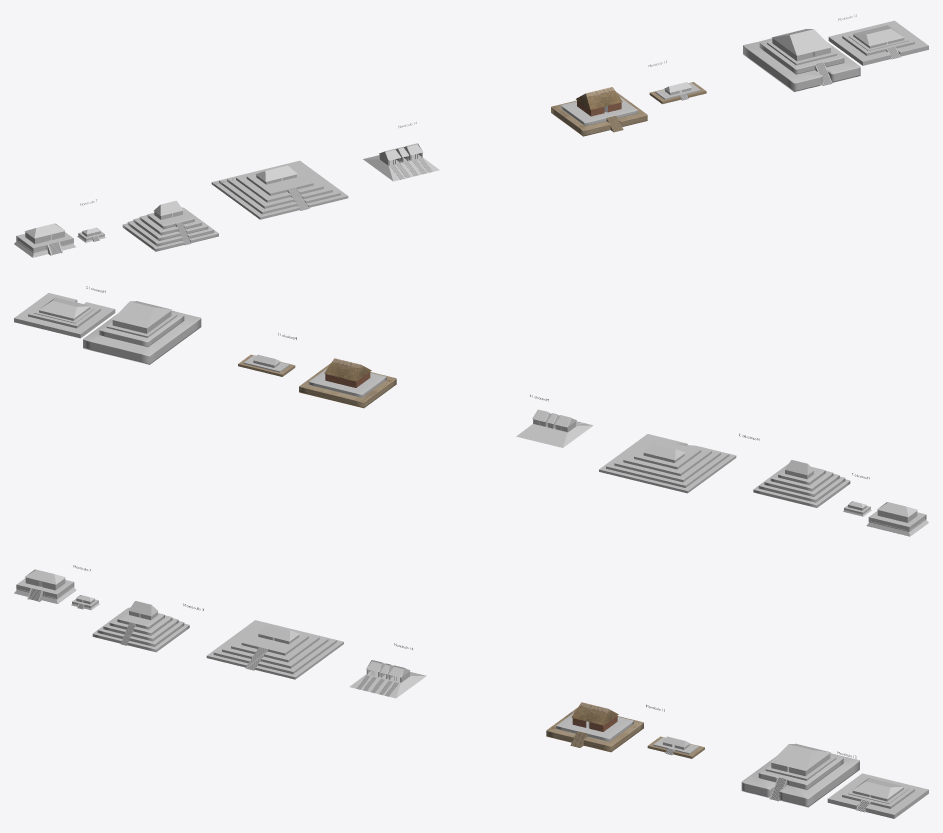
File: Monticulo13.obj
3 views of the same model, one above another, from view 1: azimuth 30°, elevation 25°; view 2: azimuth 150°, elevation 25°; view 3: azimuth 330°, elevation 25° (orthographic).
Visible parts, largest first — view 1: Plane.023, Cube, Templo_1_y_2, Cube.003, Rancho_techo.001, Cube.002, Cube.001, Cube.022, Plane.005, Rancho_techo, Cube.025, Cube.026 (+1 smaller); view 2: Plane.023, Cube, Templo_1_y_2, Cube.003, Cube.022, Rancho_techo.001, Cube.001, Cube.002, Plane.005, Rancho_techo, Cube.025, Cube.026 (+1 smaller); view 3: Plane.023, Cube, Templo_1_y_2, Cube.003, Rancho_techo.001, Cube.002, Cube.001, Cube.022, Plane.005, Rancho_techo, Cube.025, Cube.026.
Part boxes in pixels (x1=…): Plane.023: x1=211, y1=160, x2=348, y2=219; Cube: x1=743, y1=38, x2=860, y2=92; Templo_1_y_2: x1=828, y1=20, x2=928, y2=65; Cube.003: x1=551, y1=92, x2=647, y2=136; Rancho_techo.001: x1=772, y1=29, x2=831, y2=55; Cube.002: x1=560, y1=97, x2=637, y2=125; Cube.001: x1=759, y1=40, x2=844, y2=74; Cube.022: x1=363, y1=154, x2=439, y2=181; Plane.005: x1=576, y1=87, x2=622, y2=109; Rancho_techo: x1=852, y1=25, x2=904, y2=46; Cube.025: x1=122, y1=223, x2=218, y2=251; Cube.026: x1=127, y1=208, x2=213, y2=246; Plane.023: x1=599, y1=434, x2=736, y2=493; Cube: x1=83, y1=310, x2=201, y2=364; Templo_1_y_2: x1=14, y1=293, x2=115, y2=338; Cube.003: x1=299, y1=363, x2=396, y2=408; Cube.022: x1=516, y1=422, x2=593, y2=447; Rancho_techo.001: x1=112, y1=301, x2=171, y2=328; Cube.001: x1=99, y1=312, x2=184, y2=347; Cube.002: x1=309, y1=368, x2=386, y2=397; Plane.005: x1=324, y1=358, x2=371, y2=381; Rancho_techo: x1=39, y1=297, x2=90, y2=318; Cube.025: x1=753, y1=479, x2=850, y2=507; Cube.026: x1=758, y1=464, x2=845, y2=502; Plane.023: x1=206, y1=620, x2=343, y2=679; Cube: x1=741, y1=753, x2=859, y2=807; Templo_1_y_2: x1=827, y1=773, x2=928, y2=818; Cube.003: x1=546, y1=707, x2=643, y2=752; Rancho_techo.001: x1=770, y1=743, x2=830, y2=770; Cube.002: x1=556, y1=712, x2=633, y2=741; Cube.001: x1=758, y1=754, x2=843, y2=789; Cube.022: x1=349, y1=671, x2=426, y2=698; Plane.005: x1=571, y1=702, x2=618, y2=725; Rancho_techo: x1=852, y1=778, x2=904, y2=798; Cube.025: x1=92, y1=623, x2=189, y2=652; Cube.026: x1=97, y1=608, x2=184, y2=646.
Bounding box in the file's own units: 803 × 34.03 × 86.39.
